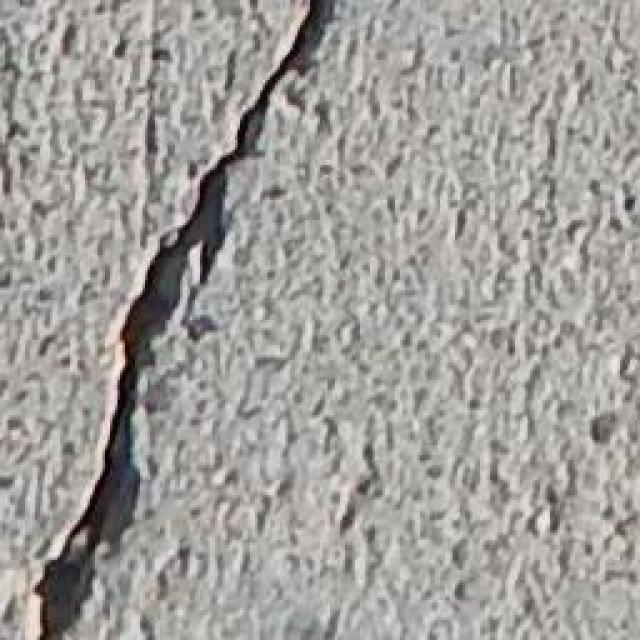concrete-crack: (29, 0, 368, 640)
